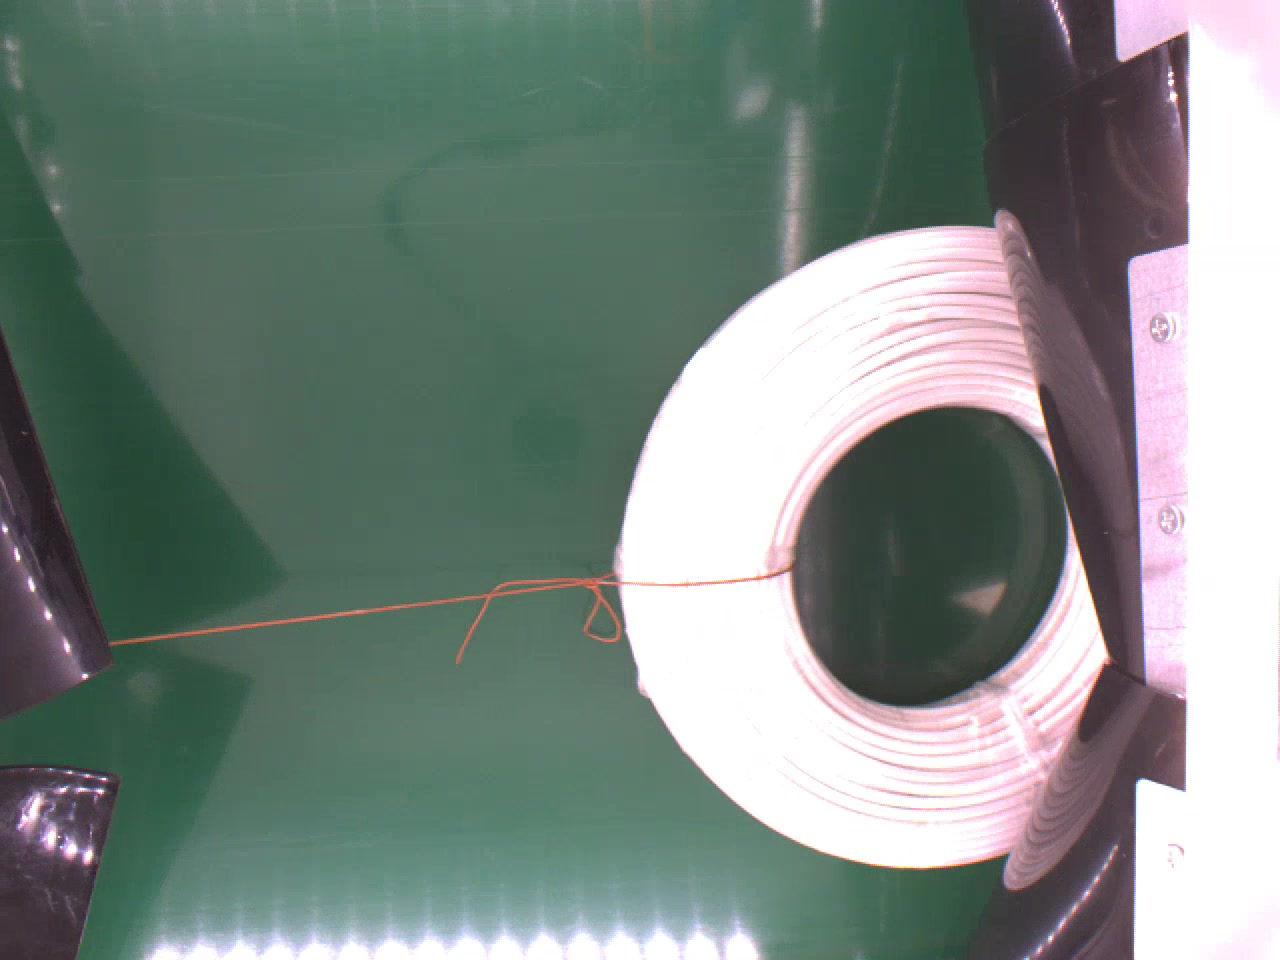white: (612, 225, 1106, 867)
